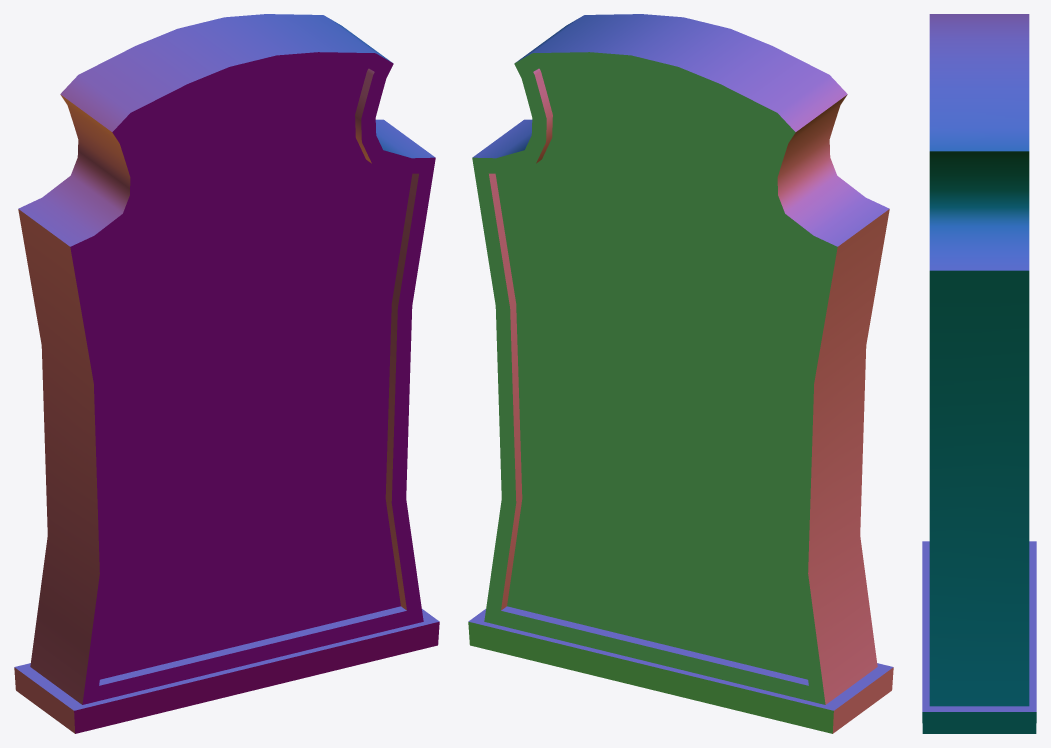
Rendered from grave2 (1).fbx.
3 views of the same model, side by side, from view 1: azimuth 30°, elevation 25°; view 2: azimuth 150°, elevation 25°; view 3: azimuth 270°, elevation 25° (orthographic). The views are drawn at different scales.
Visible parts, largest first — view 1: pCube14; view 2: pCube14; view 3: pCube14.
Boxes of the visible parts, bbox=[...] form: pCube14: bbox=[14, 14, 439, 733]; pCube14: bbox=[468, 14, 893, 733]; pCube14: bbox=[922, 14, 1036, 733].
Size of the model in its own units: 1.27 by 2.07 by 0.3585.
